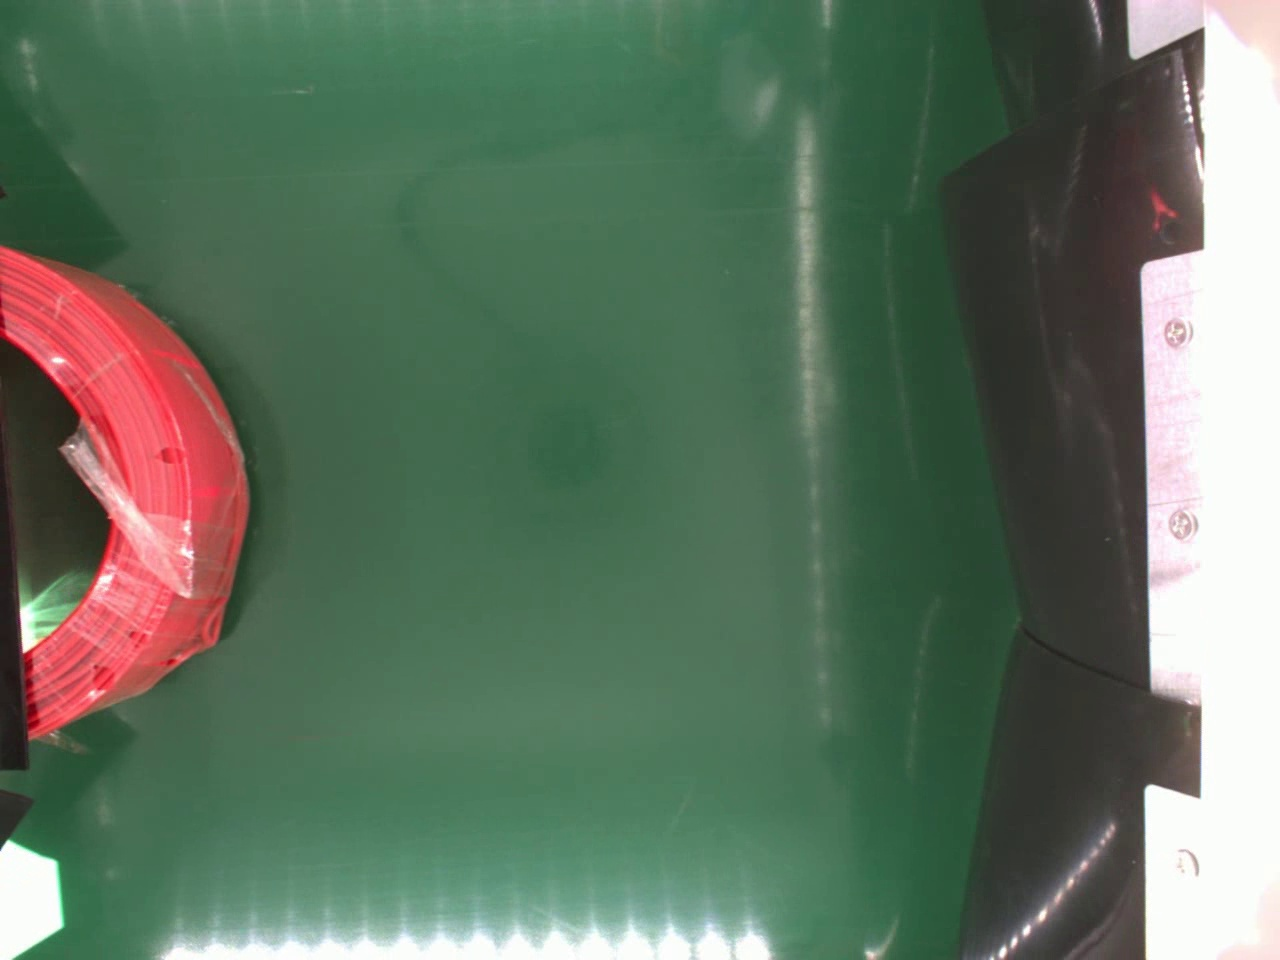red: (0, 243, 248, 739)
